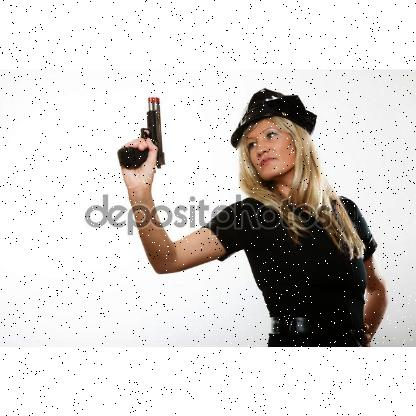gun: (116, 93, 168, 169)
